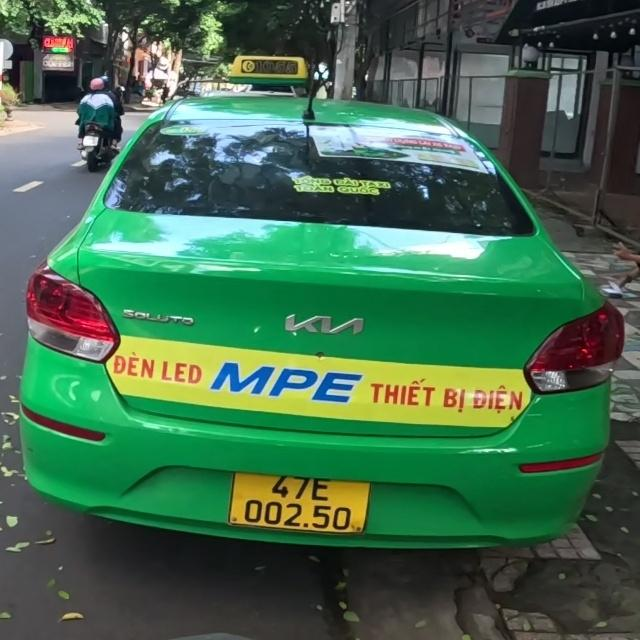license-plate: (229, 471, 369, 538)
